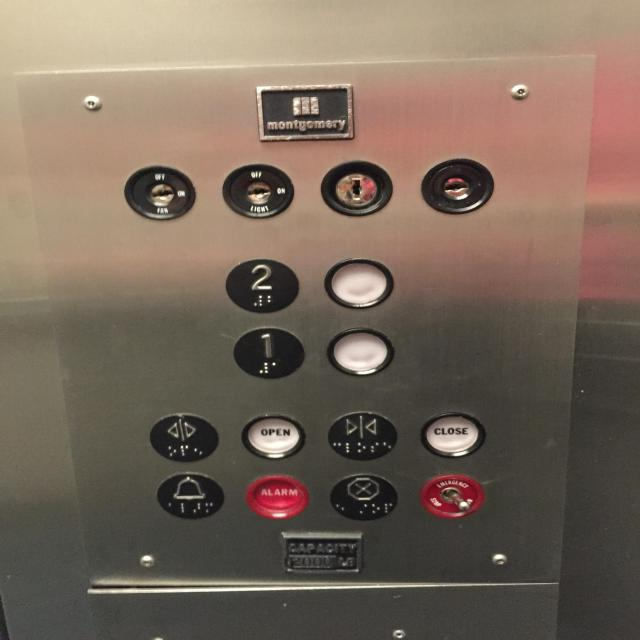1: (232, 326, 306, 380)
2: (224, 258, 299, 313)
alarm: (156, 470, 225, 520)
bt_switch: (419, 473, 484, 517)
close: (327, 411, 398, 460)
empty: (323, 257, 394, 309), (327, 327, 394, 375)
keyhole: (421, 156, 494, 215), (124, 164, 198, 221), (320, 160, 393, 216), (222, 163, 295, 218)
open: (148, 413, 220, 462)
stop: (330, 473, 398, 520)
text_alarm bell: (246, 472, 308, 519)
text_close door: (421, 412, 486, 461)
text_open door: (240, 414, 306, 459)
